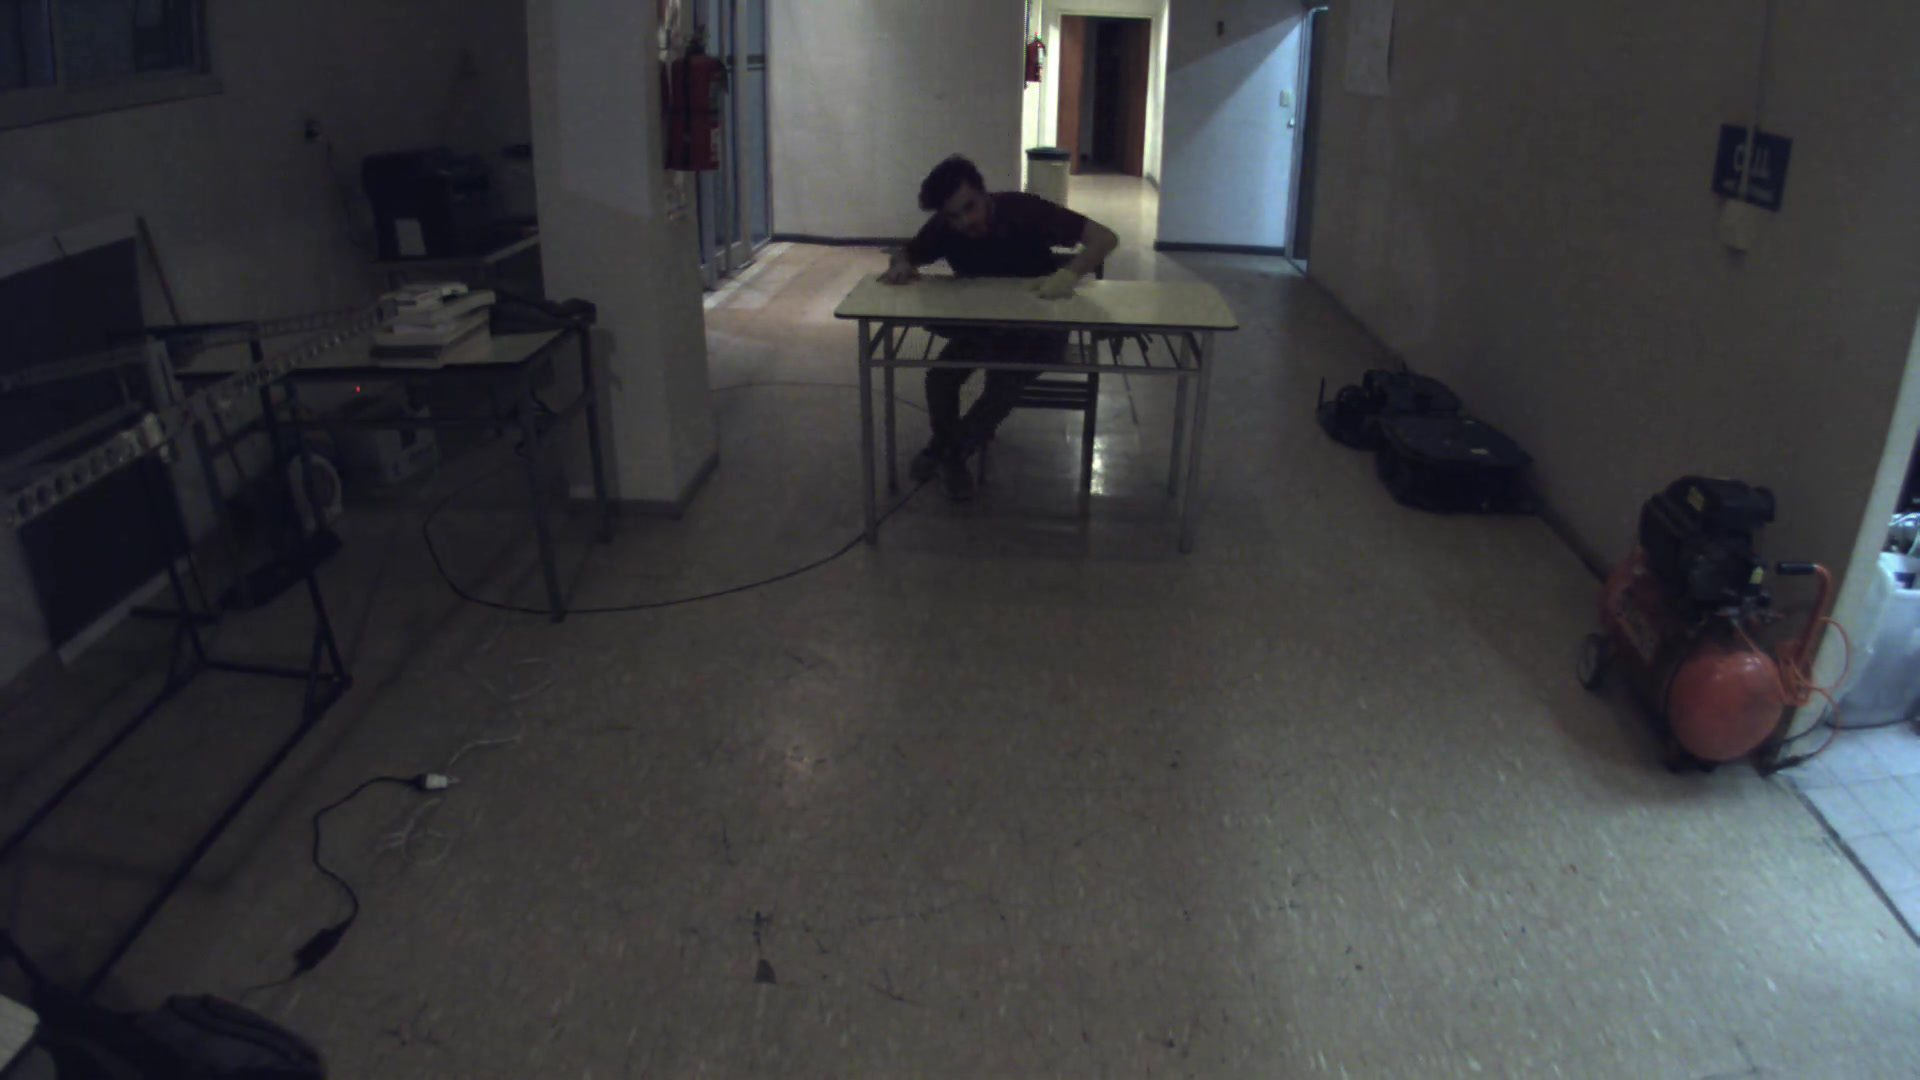hand: (1025, 256, 1087, 311), (876, 245, 932, 293)
